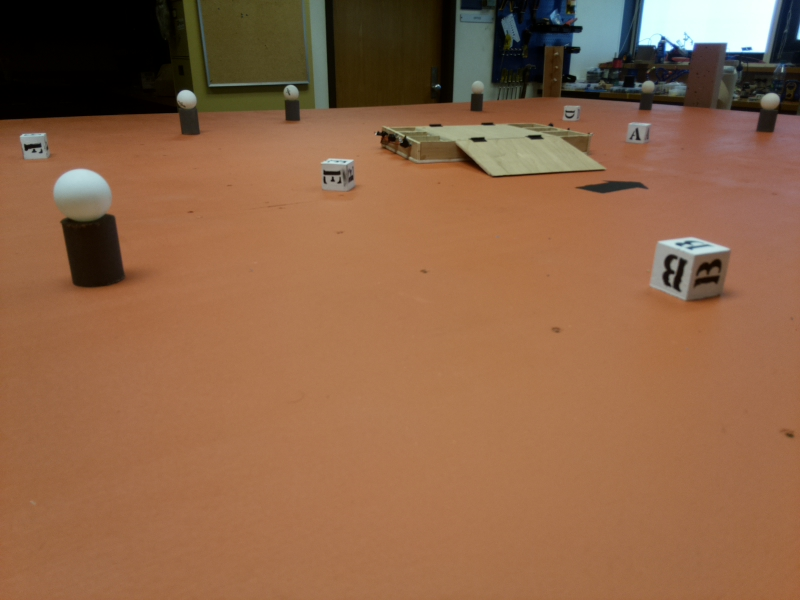blockA: (625, 121, 652, 147)
blockB: (647, 236, 738, 309)
blockD: (558, 105, 587, 121)
blockE: (319, 156, 361, 193)
blockF: (17, 129, 56, 163)
corner: (541, 47, 566, 97)
obstacle: (56, 165, 121, 290), (172, 87, 201, 138), (753, 93, 784, 138), (283, 83, 302, 124), (637, 80, 660, 111), (470, 80, 485, 117)
side: (374, 127, 433, 166)
slope: (453, 137, 603, 175)
start: (578, 178, 658, 199)
